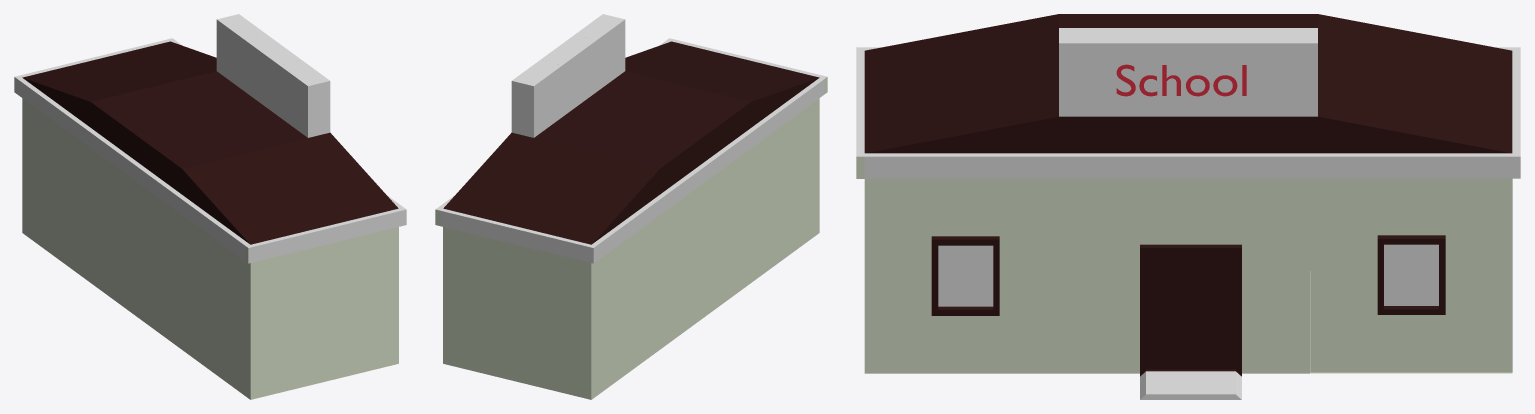
Rendered from school.gltf.
3 renders of one model, left to right at view 1: azimuth 30°, elevation 25°; view 2: azimuth 150°, elevation 25°; view 3: azimuth 270°, elevation 25°, orthographic. The views are drawn at different scales.
Parts seen in each view (by area): view 1: Cube; view 2: Cube; view 3: Cube, Text.
Boxes of the visible parts, x1,y1,x2,y2 form: Cube: (14, 14, 406, 399); Cube: (435, 14, 827, 399); Cube: (856, 14, 1520, 399); Text: (1116, 64, 1246, 96).
Bounding box in the file's own units: 7.74 × 9 × 16.4.
